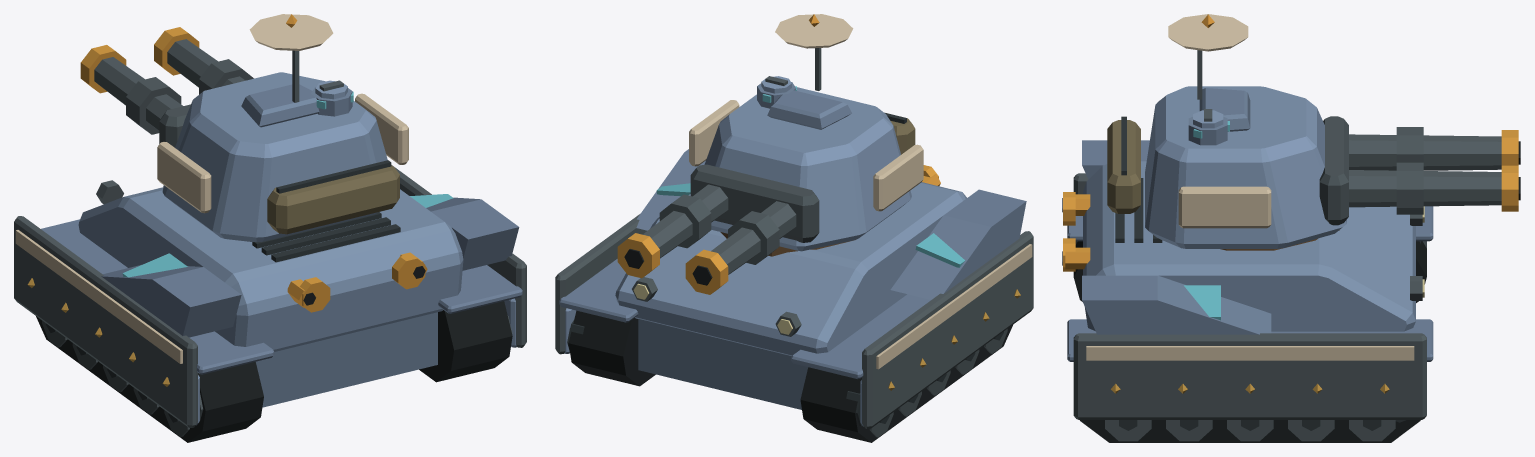
3 views of the same model, side by side, from view 1: azimuth 30°, elevation 25°; view 2: azimuth 150°, elevation 25°; view 3: azimuth 270°, elevation 25° (orthographic). The views are drawn at different scales.
Parts seen in each view (by area): view 1: boss_hull_4, boss_turret_4; view 2: boss_hull_4, boss_turret_4; view 3: boss_hull_4, boss_turret_4.
Boxes of the visible parts, x1,y1,x2,y2 form: boss_hull_4: (14, 165, 526, 442); boss_turret_4: (80, 14, 408, 242); boss_hull_4: (555, 149, 1033, 442); boss_turret_4: (617, 14, 923, 294); boss_hull_4: (1062, 140, 1433, 442); boss_turret_4: (1107, 14, 1520, 250).
Size of the model in its own units: 0.96 by 0.9288 by 1.09.
